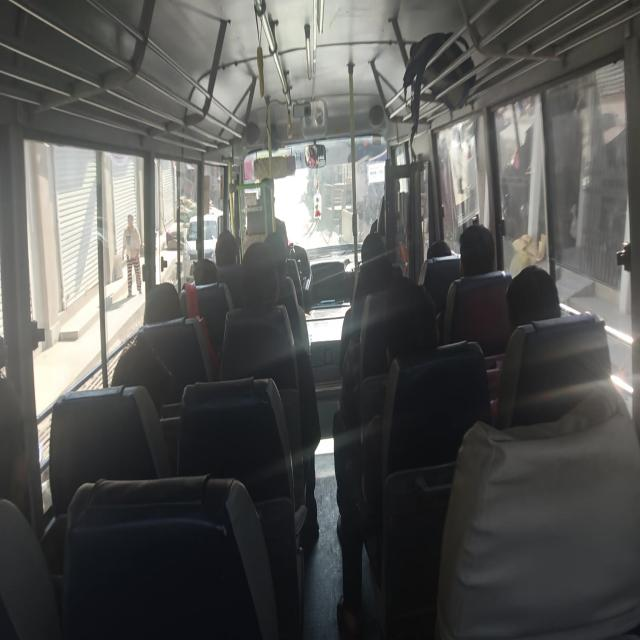person: (335, 275, 439, 636), (220, 241, 320, 543), (505, 264, 561, 331), (459, 224, 495, 277), (122, 213, 142, 297), (214, 230, 238, 268), (426, 240, 452, 258)
